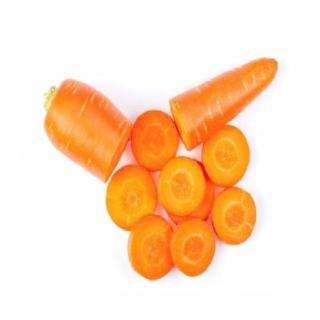carrot: (167, 55, 279, 152), (41, 74, 136, 186)
